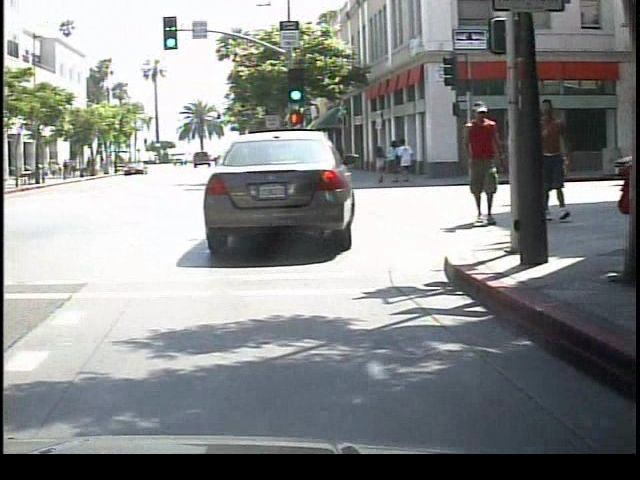person: (524, 96, 577, 229), (456, 99, 504, 228)
